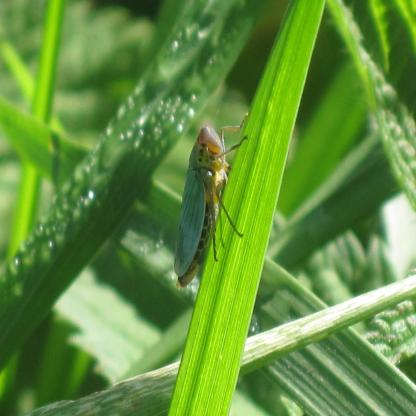Green-Leafhopper: (171, 110, 249, 296)
